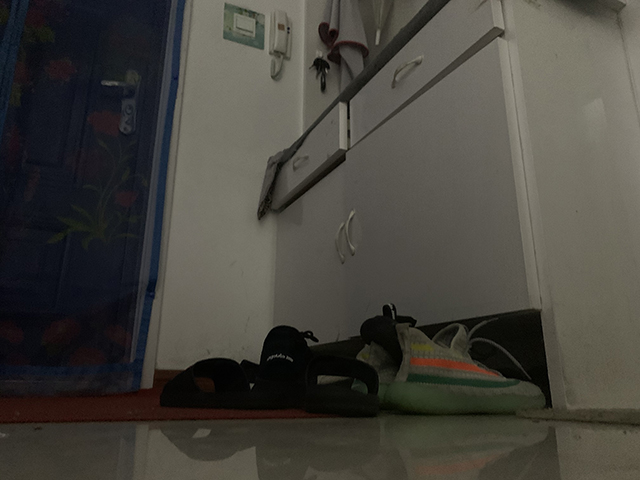cabinet: (255, 1, 639, 428)
carpet: (1, 388, 336, 425)
